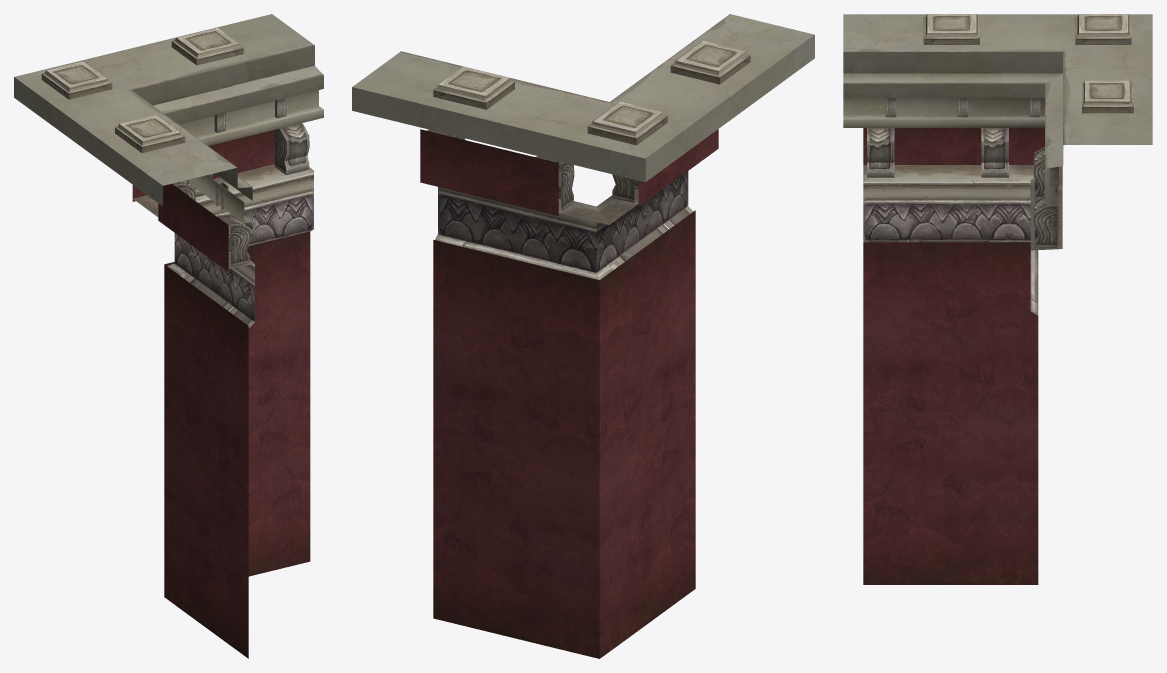
The model's file is cj_xinshou_qiang04_53_57_7428out.fbx.
The picture shows the model from 3 angles, left to right: view 1: azimuth 30°, elevation 25°; view 2: azimuth 150°, elevation 25°; view 3: azimuth 270°, elevation 25°; orthographic projection. The views are drawn at different scales.
Parts seen in each view (by area): view 1: cj_xinshou_qiang04; view 2: cj_xinshou_qiang04; view 3: cj_xinshou_qiang04.
Part boxes in pixels (x1,y1,x2,y2): cj_xinshou_qiang04: (14, 14, 323, 658); cj_xinshou_qiang04: (352, 14, 814, 658); cj_xinshou_qiang04: (843, 14, 1152, 584).
Bounding box in the file's own units: 2.63 × 5.01 × 2.63.
